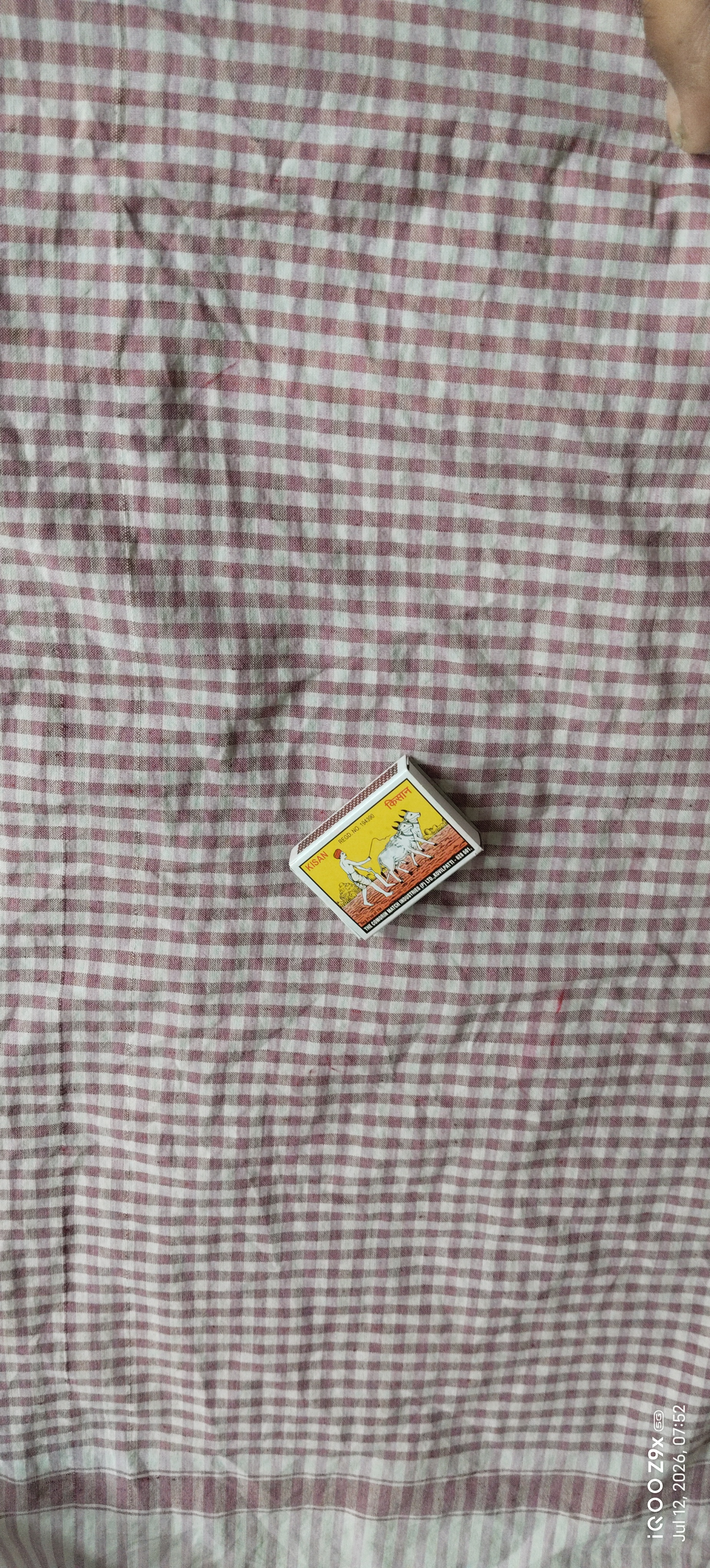matchbox: (278, 754, 516, 954)
